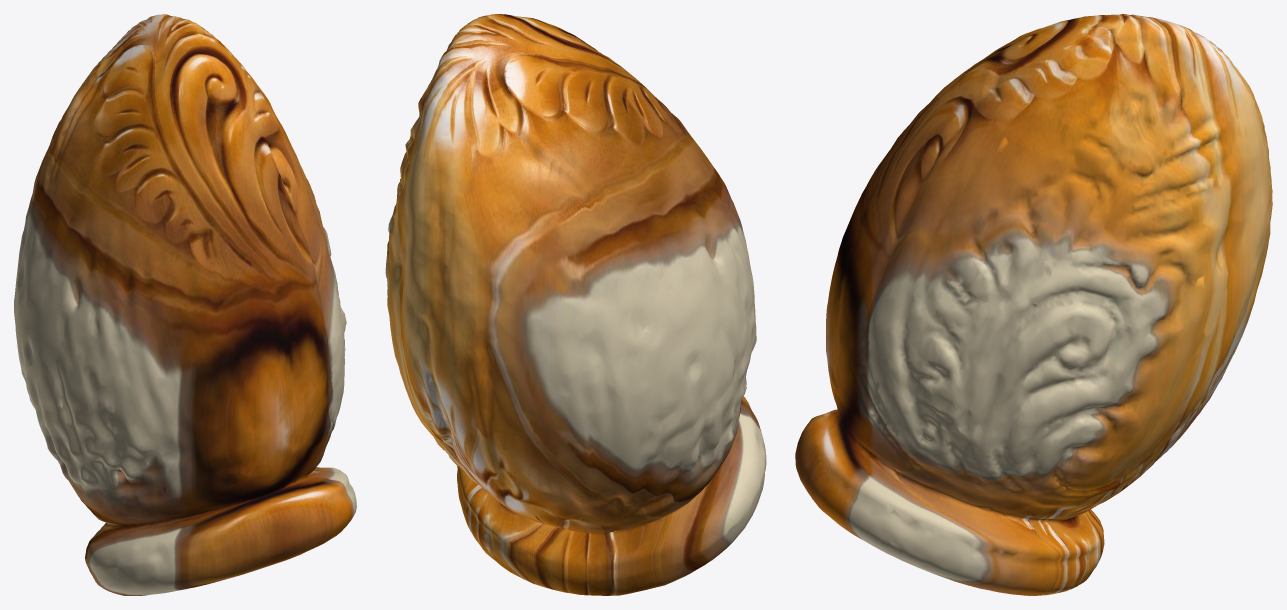
File: seed.glb
3 views of the same model, side by side, from view 1: azimuth 30°, elevation 25°; view 2: azimuth 150°, elevation 25°; view 3: azimuth 270°, elevation 25° (orthographic). The views are drawn at different scales.
Parts seen in each view (by area): view 1: geometry_0; view 2: geometry_0; view 3: geometry_0.
Boxes of the visible parts, bbox=[...] form: geometry_0: bbox=[14, 14, 356, 595]; geometry_0: bbox=[385, 14, 766, 595]; geometry_0: bbox=[795, 14, 1272, 595].
Bounding box in the file's own units: 0.5788 × 1.02 × 0.7596.
1 material, 1 textured.
